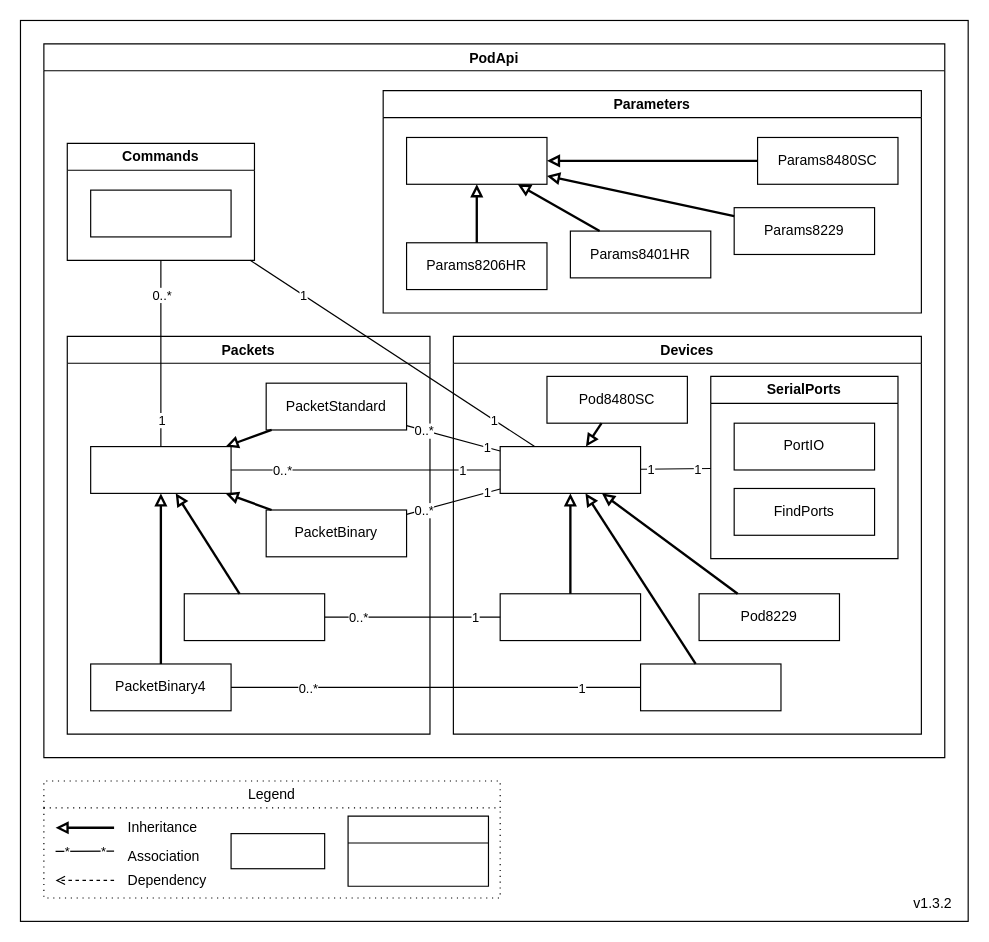
Image size: 989x942. Some labels were removed from this diagram. The centre of each missing label's shape, as x and y in pixels:
Class: the point at 277,850
CommandSet: the point at 160,213
Package: the point at 417,850
Packet: the point at 160,469
PacketBinary5: the point at 254,617
Params: the point at 476,160
Pod: the point at 570,469
Pod 8206HR: the point at 710,687
Pod8401HR: the point at 570,617
